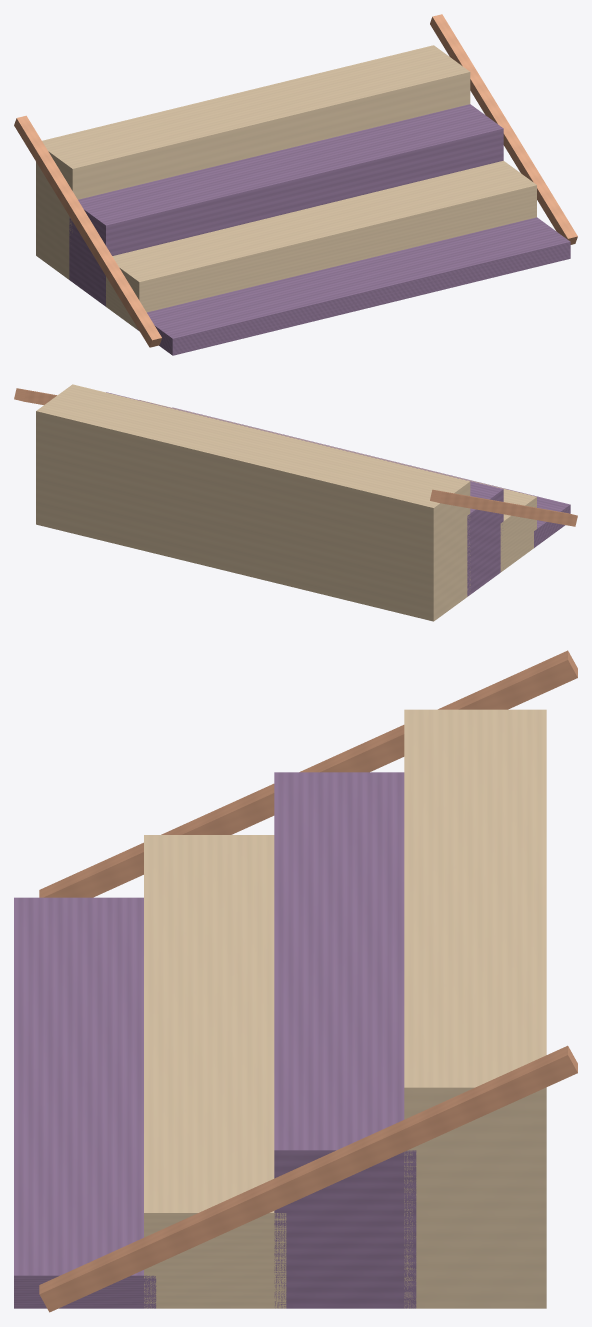
The model's file is atlas100-s081-a10.glb.
3 views of the same model, one above another, from view 1: azimuth 30°, elevation 25°; view 2: azimuth 150°, elevation 25°; view 3: azimuth 270°, elevation 25° (orthographic). The views are drawn at different scales.
Parts seen in each view (by area): view 1: atlas100-s081-a10:part-003, atlas100-s081-a10:part-002, atlas100-s081-a10:part-001, atlas100-s081-a10:part-000, atlas100-s081-a10:part-004, atlas100-s081-a10:part-005; view 2: atlas100-s081-a10:part-003, atlas100-s081-a10:part-002, atlas100-s081-a10:part-001, atlas100-s081-a10:part-004, atlas100-s081-a10:part-000, atlas100-s081-a10:part-005; view 3: atlas100-s081-a10:part-003, atlas100-s081-a10:part-002, atlas100-s081-a10:part-001, atlas100-s081-a10:part-000, atlas100-s081-a10:part-005, atlas100-s081-a10:part-004.
Boxes of the visible parts, x1,y1,x2,y2 form: atlas100-s081-a10:part-003: (36,45,470,279); atlas100-s081-a10:part-002: (69,104,503,306); atlas100-s081-a10:part-001: (106,160,536,330); atlas100-s081-a10:part-000: (137,217,570,355); atlas100-s081-a10:part-004: (14,115,161,347); atlas100-s081-a10:part-005: (430,14,577,244); atlas100-s081-a10:part-003: (36,384,470,621); atlas100-s081-a10:part-002: (106,392,503,596); atlas100-s081-a10:part-001: (139,400,536,572); atlas100-s081-a10:part-004: (430,489,577,526); atlas100-s081-a10:part-000: (172,407,570,547); atlas100-s081-a10:part-005: (14,388,56,404); atlas100-s081-a10:part-003: (404,709,546,1308); atlas100-s081-a10:part-002: (274,772,416,1308); atlas100-s081-a10:part-001: (144,835,286,1308); atlas100-s081-a10:part-000: (14,897,156,1308); atlas100-s081-a10:part-005: (39,1045,577,1312); atlas100-s081-a10:part-004: (39,650,577,897).
Bounding box in the file's own units: 2.36 × 0.7246 × 1.39.
Materials: 3 (3 with a texture image).
